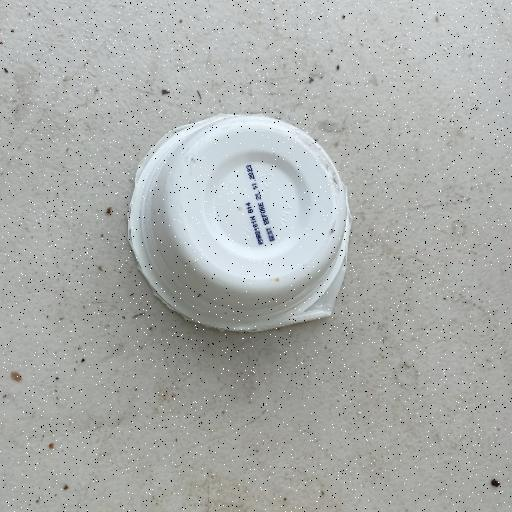Plastic: (124, 110, 354, 336)
